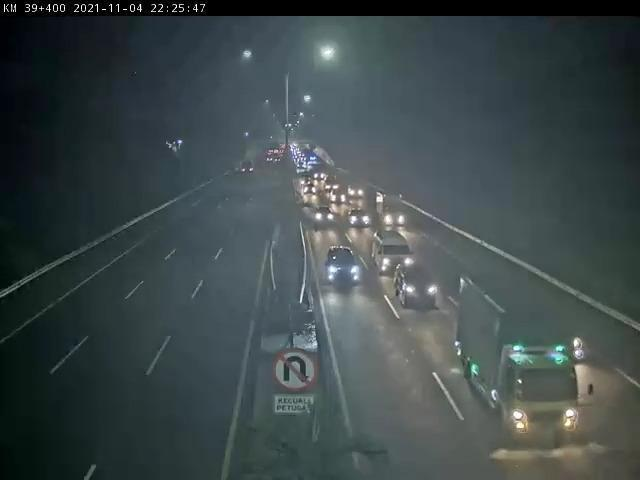bus: (371, 228, 415, 279)
car: (398, 262, 444, 309), (323, 245, 364, 287), (348, 206, 372, 229), (313, 204, 338, 226)
truck: (454, 267, 589, 441), (375, 190, 408, 229)
